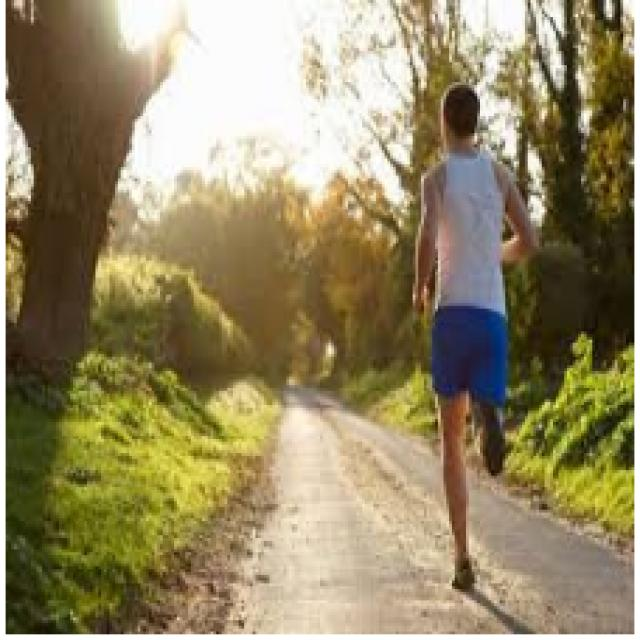running: (410, 76, 546, 598)
